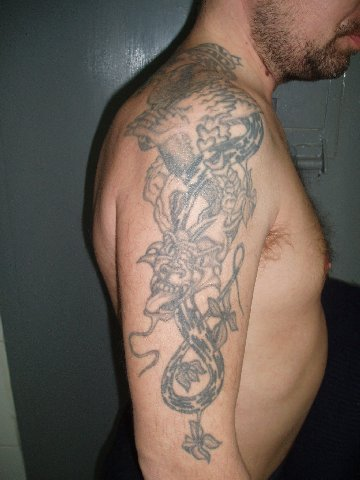tatu6_drakon: (105, 32, 281, 463)
